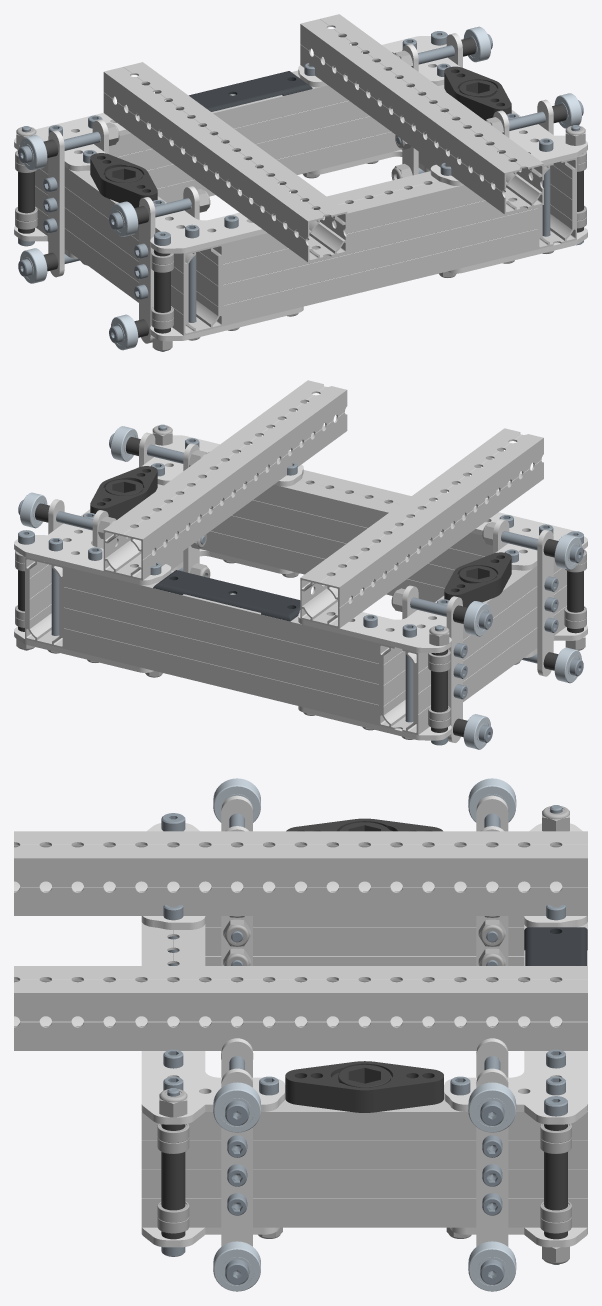
Rendered from Carriage_old.glb.
3 views of the same model, one above another, from view 1: azimuth 30°, elevation 25°; view 2: azimuth 150°, elevation 25°; view 3: azimuth 270°, elevation 25° (orthographic). The views are drawn at different scales.
Parts seen in each view (by area): view 1: Carriage Top/Bottom (×2), MAXTube, 1x1x47" (×2), Carriage Side (×2), Slider Corner Plate (×7), Ratchet Plate (1/2" Hex) (WCP-0585) (×2), Guide Plate (×3), 0.75" OD x 0.25" ID x .280" Radial Ball Bearing (TTB-0038) (×6), Spring Cover, Socket head shoulder screw 0.2480 x 1.75 - #10-24 (×4), Socket head cap screw #10-32 x 2.5 (×2), Nylon Spacer (×2); view 2: Carriage Top/Bottom (×2), MAXTube, 1x1x47" (×2), Carriage Side (×2), Slider Corner Plate (×7), Ratchet Plate (1/2" Hex) (WCP-0585) (×2), 0.75" OD x 0.25" ID x .280" Radial Ball Bearing (TTB-0038) (×6), Guide Plate (×3), Spring Cover, Socket head shoulder screw 0.2480 x 1.75 - #10-24 (×4), Socket head cap screw #10-32 x 2.5 (×2), Nylon Spacer (×2); view 3: MAXTube, 1x1x47" (×2), Carriage Side (×2), Slider Corner Plate (×6), Guide Plate (×8), 0.75" OD x 0.25" ID x .280" Radial Ball Bearing (TTB-0038) (×6), Ratchet Plate (1/2" Hex) (WCP-0585) (×2), Nylon Spacer (×2), Spring Cover, Carriage Top/Bottom, Socket head shoulder screw 0.2480 x 1.75 - #10-24 (×2), 1/4"-20 Nylon-Insert Locknut.
Part boxes in pixels (x1,y1,x2,y2): Carriage Top/Bottom (×2): (109,70,537,326); MAXTube, 1x1x47" (×2): (103,14,543,262); Carriage Side (×2): (35,85,576,335); Slider Corner Plate (×7): (14,36,587,341); Ratchet Plate (1/2" Hex) (WCP-0585) (×2): (90,66,511,207); Guide Plate (×3): (48,44,418,343); 0.75" OD x 0.25" ID x .280" Radial Ball Bearing (TTB-0038) (×6): (20,26,581,350); Spring Cover: (165,71,312,118); Socket head shoulder screw 0.2480 x 1.75 - #10-24 (×4): (18,34,583,230); Socket head cap screw #10-32 x 2.5 (×2): (185,138,553,322); Nylon Spacer (×2): (18,171,170,312); Carriage Top/Bottom (×2): (64,470,492,725); MAXTube, 1x1x47" (×2): (103,380,543,628); Carriage Side (×2): (25,484,566,734); Slider Corner Plate (×7): (14,435,587,740); Ratchet Plate (1/2" Hex) (WCP-0585) (×2): (90,466,511,607); 0.75" OD x 0.25" ID x .280" Radial Ball Bearing (TTB-0038) (×6): (20,426,581,749); Guide Plate (×3): (183,443,553,742); Spring Cover: (153,570,300,621); Socket head shoulder screw 0.2480 x 1.75 - #10-24 (×4): (18,433,583,629); Socket head cap screw #10-32 x 2.5 (×2): (48,538,416,722); Nylon Spacer (×2): (431,571,583,712); MAXTube, 1x1x47" (×2): (14,831,587,1050); Carriage Side (×2): (141,916,587,1227); Slider Corner Plate (×6): (141,823,587,1247); Guide Plate (×8): (221,795,508,1246); 0.75" OD x 0.25" ID x .280" Radial Ball Bearing (TTB-0038) (×6): (213,778,516,1291); Ratchet Plate (1/2" Hex) (WCP-0585) (×2): (285,818,443,1112); Nylon Spacer (×2): (161,1152,567,1210); Spring Cover: (524,927,587,965); Carriage Top/Bottom: (141,922,205,965); Socket head shoulder screw 0.2480 x 1.75 - #10-24 (×2): (225,1056,504,1125); 1/4"-20 Nylon-Insert Locknut: (159,1089,187,1117).
Size of the model in its own units: 0.3017 by 0.0984 by 0.2286.
